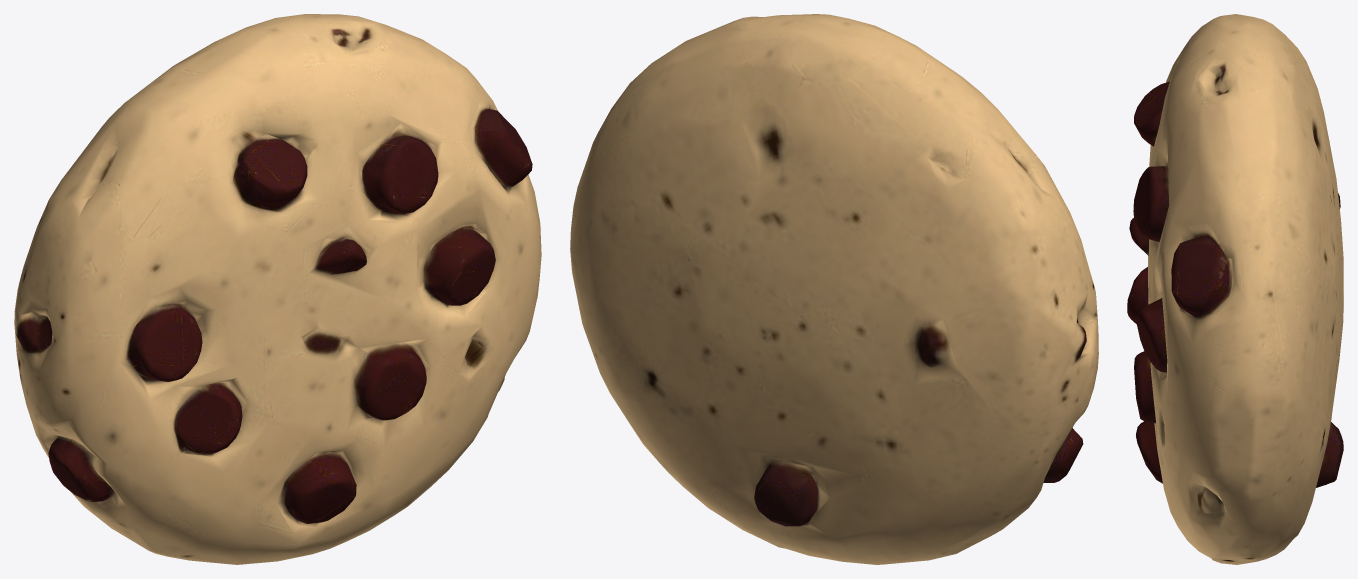
The model's file is cookie.9df43d4d.glb.
3 views of the same model, side by side, from view 1: azimuth 30°, elevation 25°; view 2: azimuth 150°, elevation 25°; view 3: azimuth 270°, elevation 25° (orthographic). The views are drawn at different scales.
Size of the model in its own units: 2 by 1.98 by 0.7766.
1 material, 1 textured.
